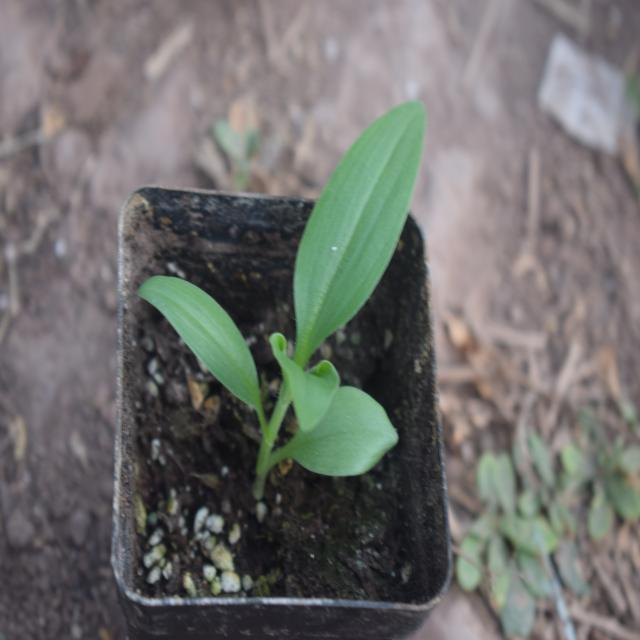Common Dayflower: (179, 59, 417, 518)
